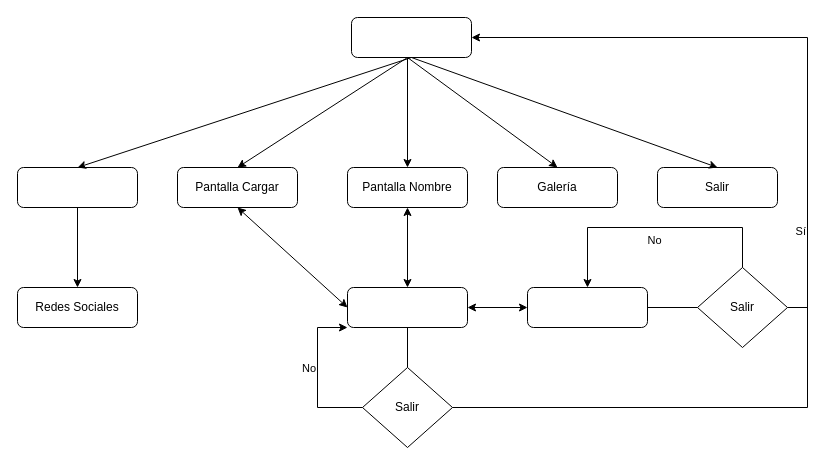
Image size: 833x465. Some labels were removed from this diagram. Here are the shapes that lost their labels. From the top down, the centre of each, then its label:
At [411,37]: "Menú Principal".
At [77,187]: "Pantalla Contacto".
At [407,307]: "Visual Novel".
At [587,307]: "Minijuego".
